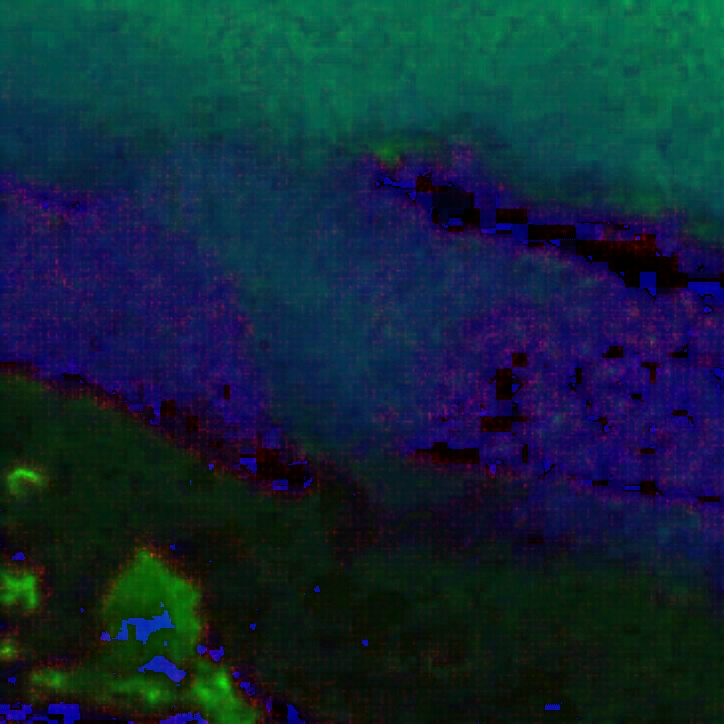rip_current: (80, 74, 485, 470)
